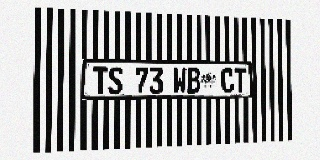3: (149, 67, 163, 94)
7: (134, 67, 149, 94)
B: (187, 68, 200, 93)
C: (221, 68, 234, 93)
S: (108, 67, 123, 94)
T: (92, 67, 108, 94), (234, 68, 247, 93)
W: (173, 67, 186, 94)
